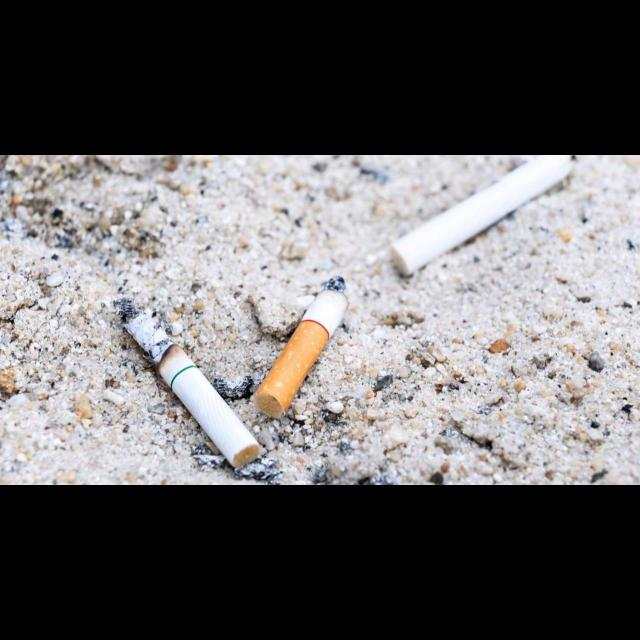cigarette: (113, 298, 261, 469), (391, 155, 577, 276), (254, 276, 349, 419)
